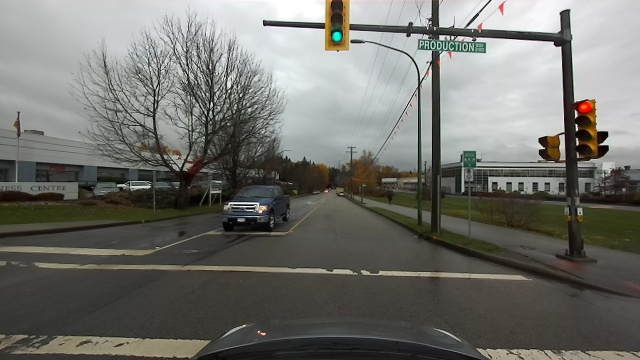car: (220, 183, 292, 232), (91, 180, 119, 196), (122, 180, 149, 194), (153, 179, 172, 193), (335, 188, 345, 196), (312, 190, 320, 194), (324, 189, 331, 193)
